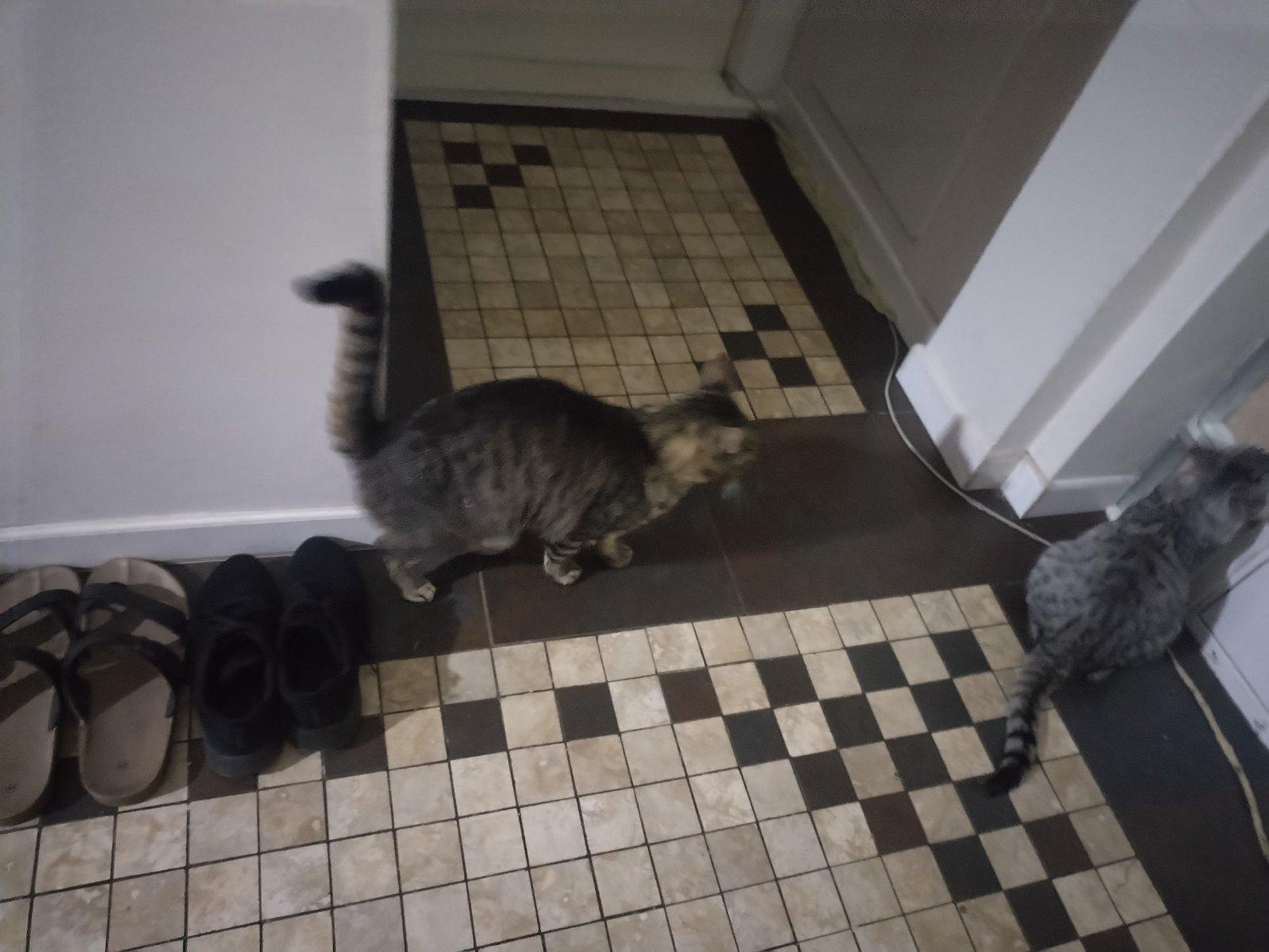macka: (292, 264, 767, 605), (977, 443, 1268, 794)
